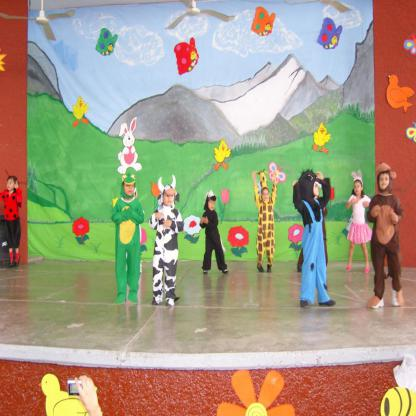face: (380, 175, 390, 190), (165, 192, 175, 206), (125, 184, 135, 197), (7, 179, 15, 191), (263, 190, 270, 202), (355, 183, 362, 195), (313, 183, 319, 196), (209, 200, 215, 212)
